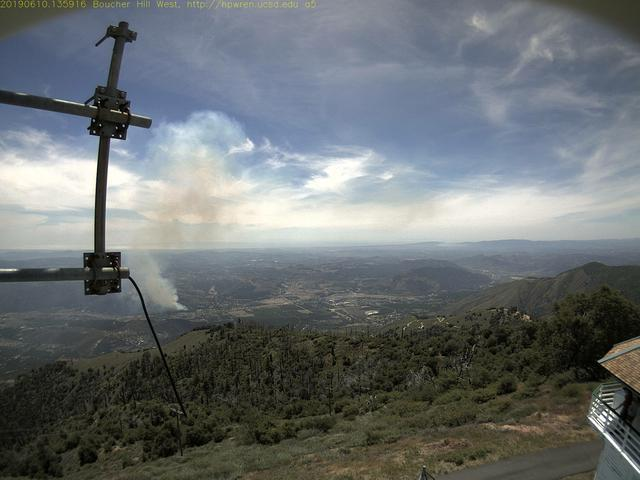smoke: (132, 111, 252, 313)
